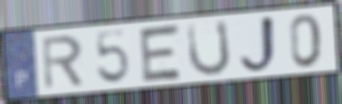0: (288, 13, 323, 69)
5: (93, 28, 133, 86)
E: (138, 22, 185, 85)
J: (236, 13, 282, 76)
R: (40, 33, 86, 91)
U: (185, 18, 233, 78)
